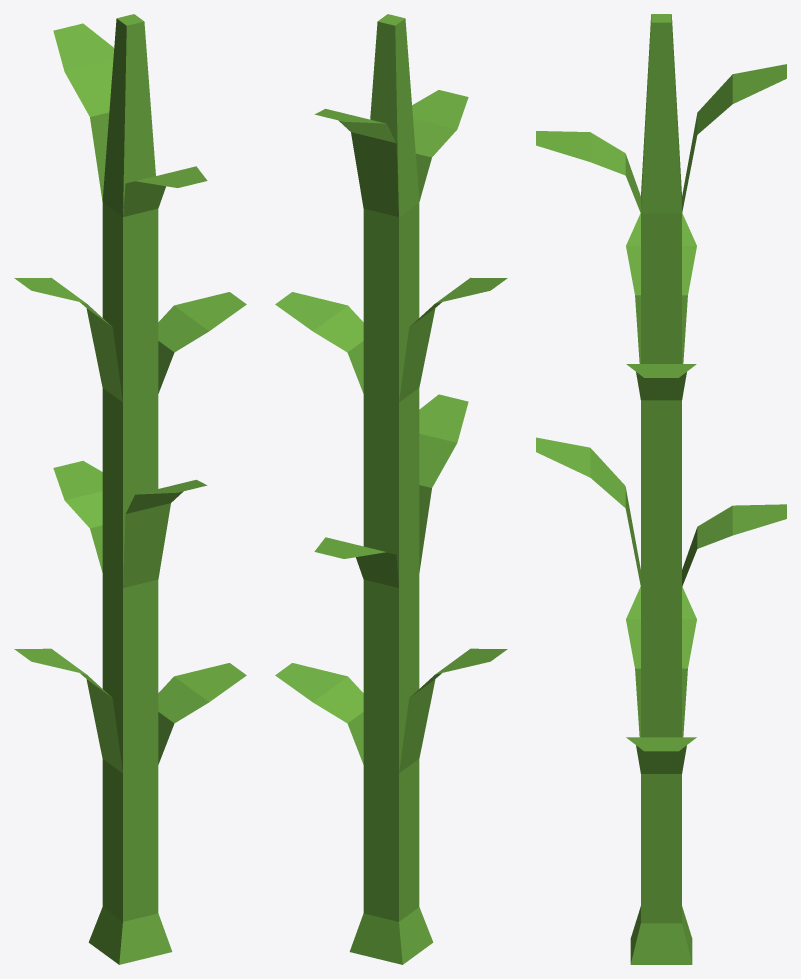
Rendered from crops_cornStageC.glb.
3 renders of one model, left to right at view 1: azimuth 30°, elevation 25°; view 2: azimuth 150°, elevation 25°; view 3: azimuth 270°, elevation 25°, orthographic.
Parts seen in each view (by area): view 1: crops_cornStageC; view 2: crops_cornStageC; view 3: crops_cornStageC.
Part boxes in pixels (x1,y1,x2,y2): crops_cornStageC: [14, 14, 246, 964]; crops_cornStageC: [275, 14, 507, 964]; crops_cornStageC: [536, 14, 786, 964].
Size of the model in its own units: 0.3042 by 1.25 by 0.3042.
